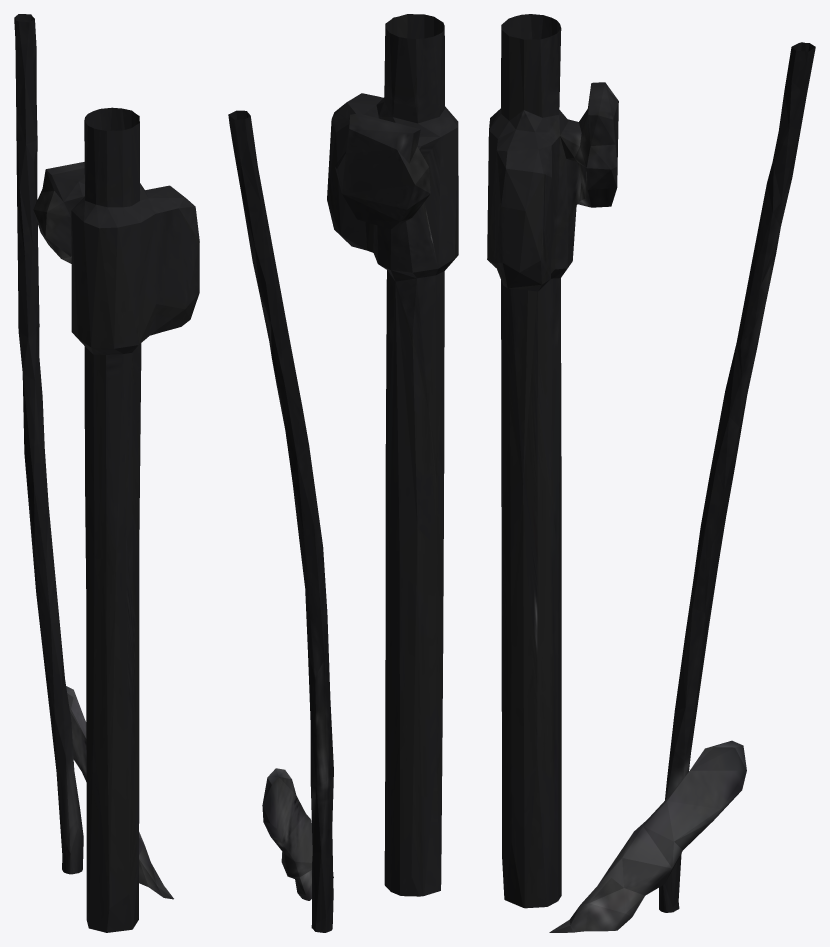
File: LightPole.obj
The picture shows the model from 3 angles, left to right: view 1: azimuth 30°, elevation 25°; view 2: azimuth 150°, elevation 25°; view 3: azimuth 270°, elevation 25°; orthographic projection. The views are drawn at different scales.
Size of the model in its own units: 6.21 by 39 by 13.37.
Materials: 1 (1 with a texture image).
